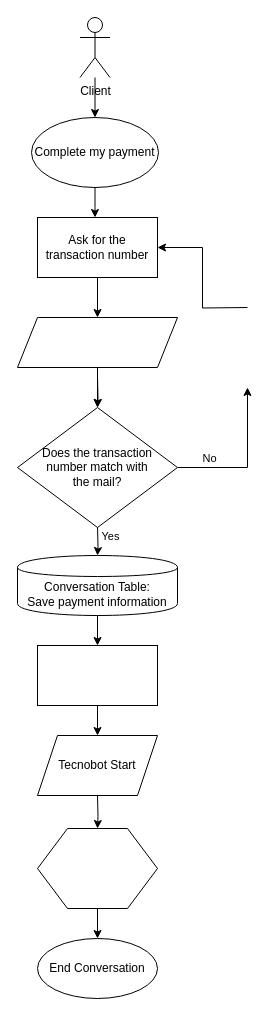
The diagram is 273 pixels wide and 1016 high, and some of its shapes have lost their labels. The shapes that lost their labels are listed below. From the top down, each one's centre as x and y in pixels, then its label:
[97,342]: Payment Bot Start
[97,675]: Return the marketing package confirmation info
[97,868]: Send notification: Successful Payment
